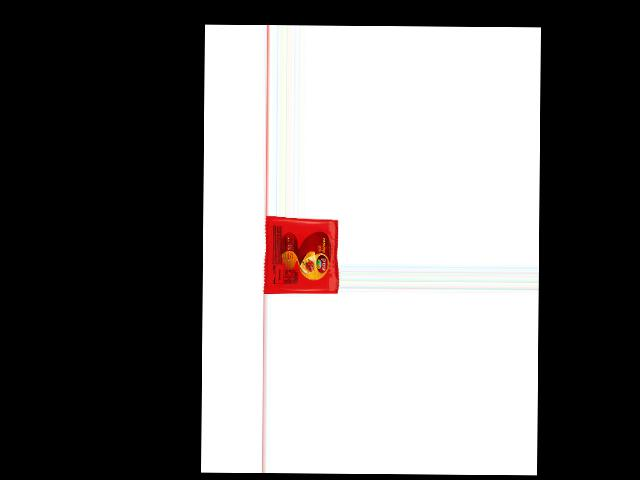cheese: (263, 218, 338, 295)
